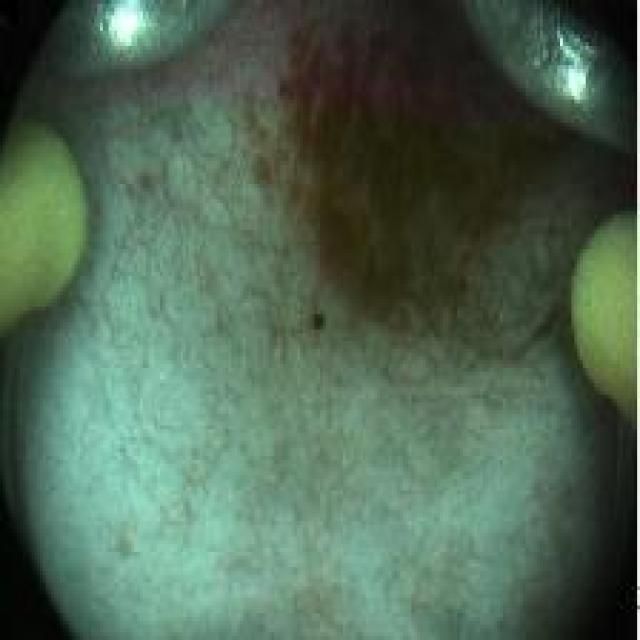color misalignment: (308, 307, 327, 342)
contrast: (442, 5, 535, 131)
instrument: (465, 7, 632, 160), (5, 122, 85, 330), (571, 210, 636, 430), (34, 7, 216, 82)
specularity: (555, 33, 591, 101), (103, 0, 150, 45)
